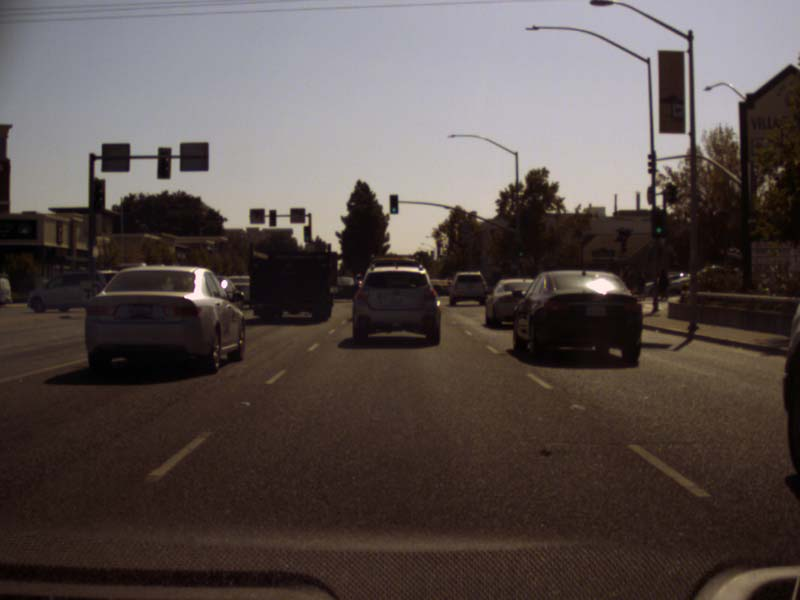Green: (651, 210, 665, 237), (389, 194, 398, 213), (516, 243, 523, 258), (303, 226, 310, 240)
